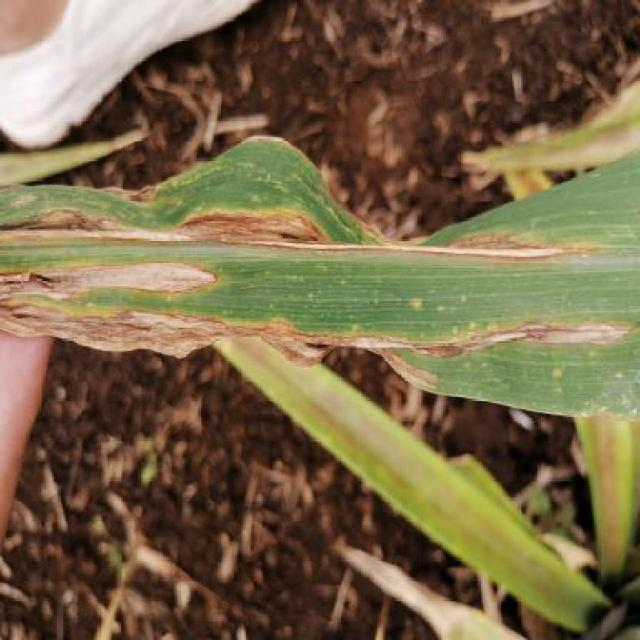Corn_Leaf_Blight: (0, 135, 640, 420)
